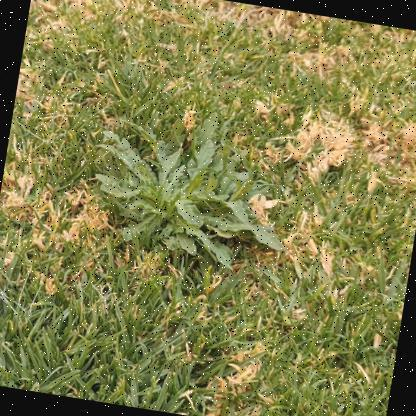Weeds: (78, 90, 304, 284)
